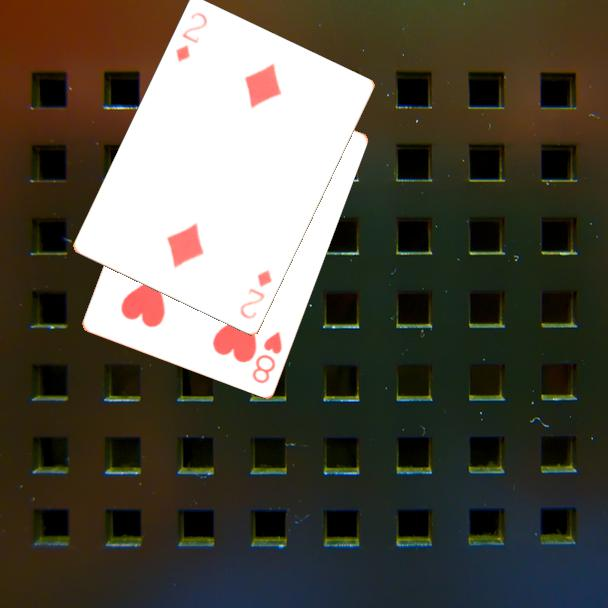d02: (236, 266, 275, 322), (172, 9, 211, 65)
h08: (248, 327, 285, 386)
